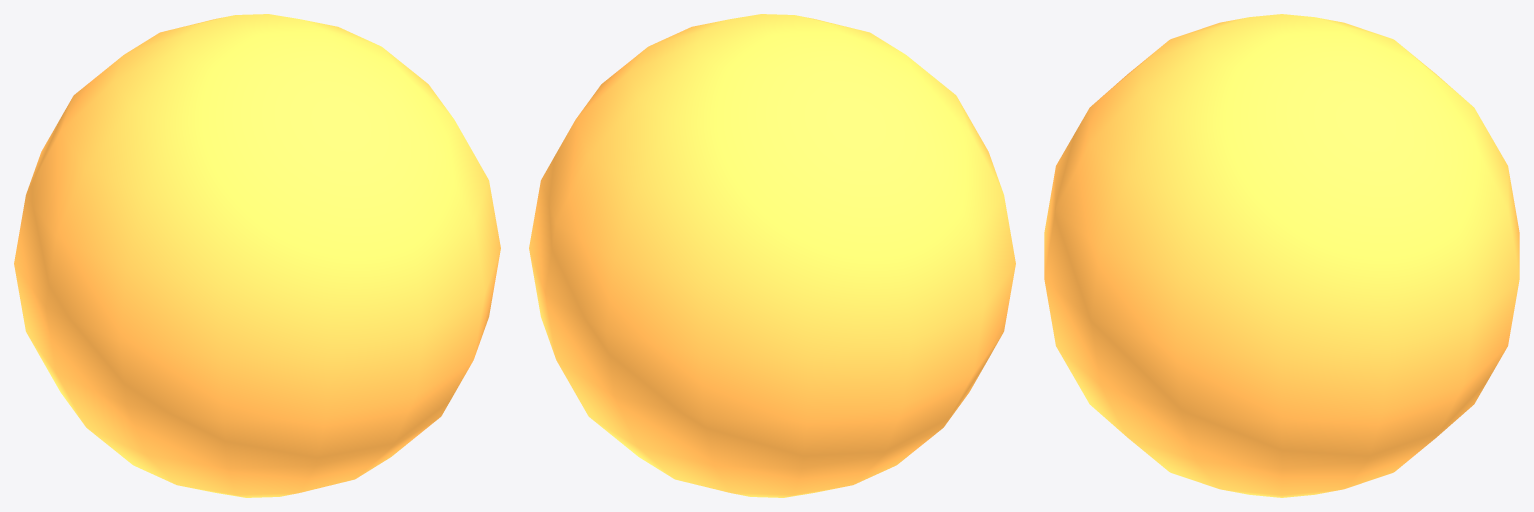
Rendered from nuke.glb.
The picture shows the model from 3 angles, left to right: view 1: azimuth 30°, elevation 25°; view 2: azimuth 150°, elevation 25°; view 3: azimuth 270°, elevation 25°; orthographic projection.
Parts seen in each view (by area): view 1: nuke; view 2: nuke; view 3: nuke.
Part boxes in pixels (x1,y1,x2,y2): nuke: (14, 14, 500, 497); nuke: (529, 14, 1015, 497); nuke: (1044, 14, 1519, 497).
Bounding box in the file's own units: 1.1 × 1.1 × 1.07.
